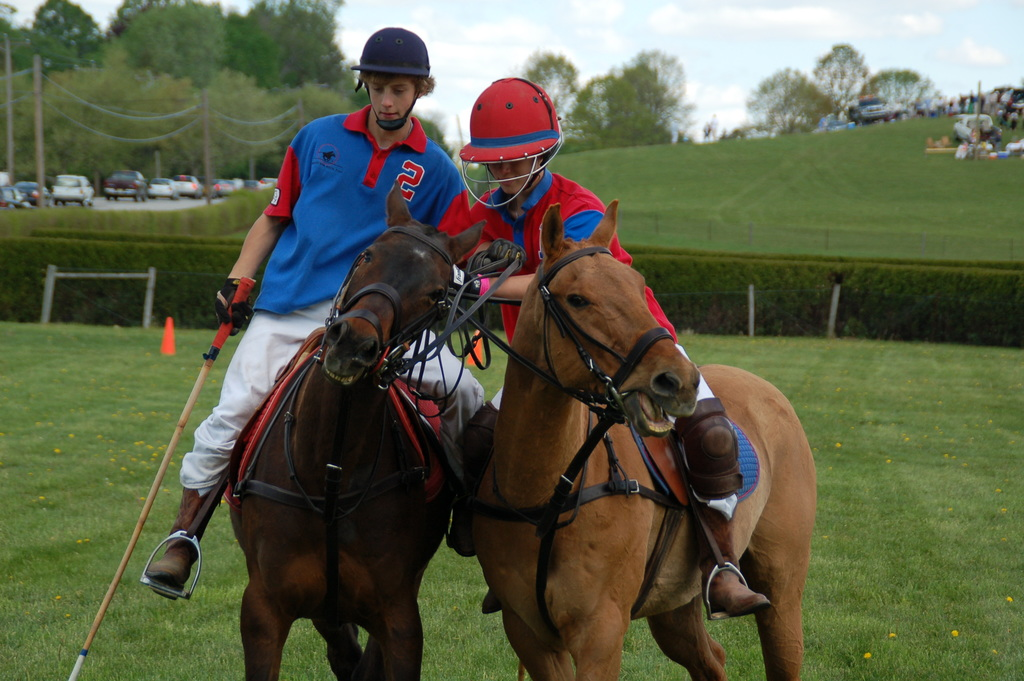Person: (140, 27, 529, 601), (457, 77, 772, 621), (914, 88, 1024, 130)
